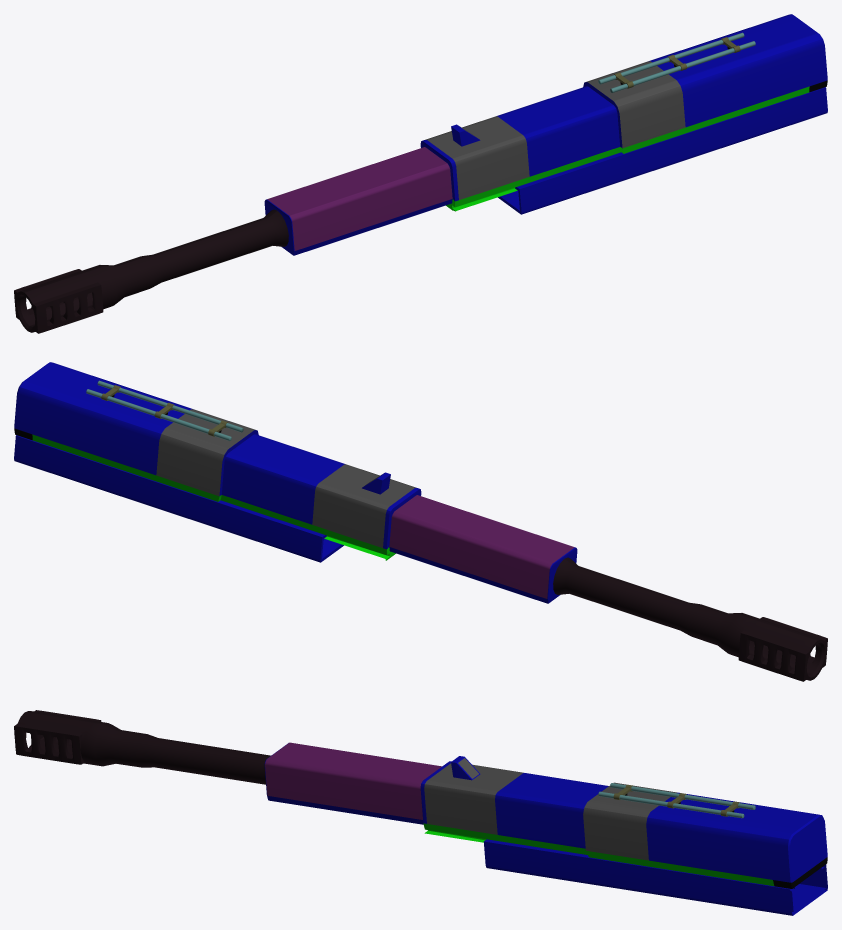
The model's file is LowArtilleryBarrel.fbx.
The picture shows the model from 3 angles, top to bottom: view 1: azimuth 30°, elevation 25°; view 2: azimuth 150°, elevation 25°; view 3: azimuth 330°, elevation 25°; orthographic projection.
Visible parts, largest first — view 1: LowArtilleryBarrel; view 2: LowArtilleryBarrel; view 3: LowArtilleryBarrel.
Part boxes in pixels (x1,y1,x2,y2): LowArtilleryBarrel: [14, 14, 827, 333]; LowArtilleryBarrel: [14, 362, 827, 681]; LowArtilleryBarrel: [14, 710, 827, 915].
Bounding box in the file's own units: 544 × 43.96 × 78.28.
